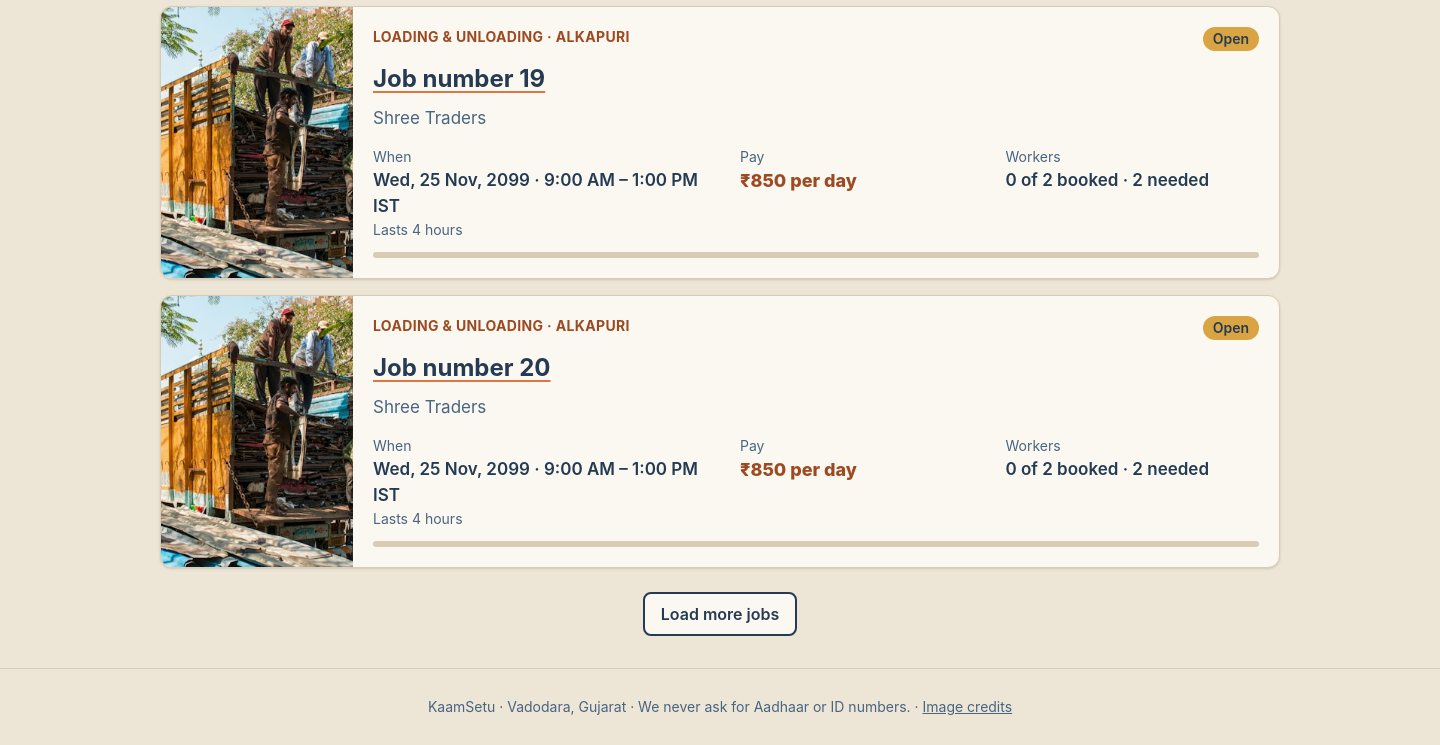
Test: browse jobs › offers 'Load more' only when a full page came back, and appends the next page
(page scrolled)
Click the button "Load more jobs".
click(720, 614)  # box [643,592,797,636]
(page scrolled)
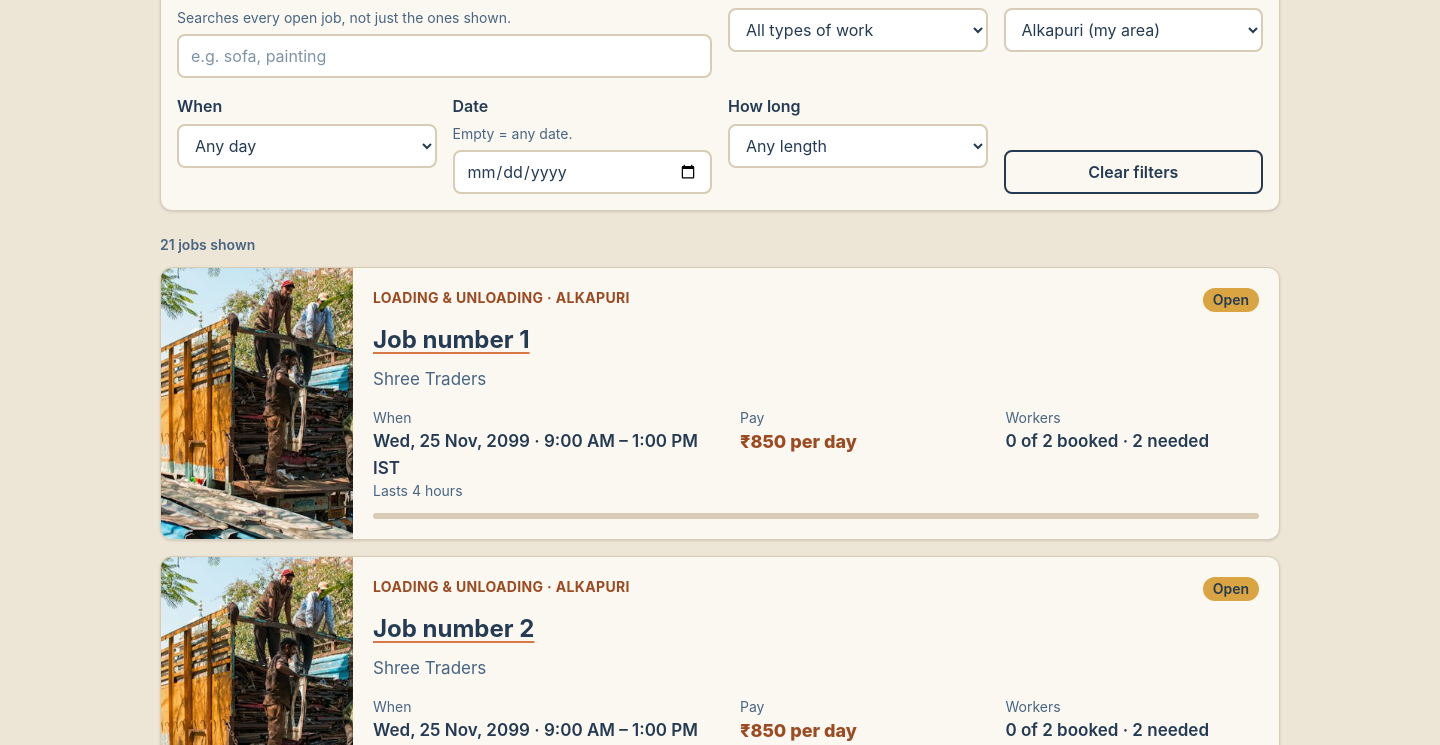
Expected: the link "Job number 1" is shown, [373,316,530,364]
Result: the button "Load more jobs" is gone
